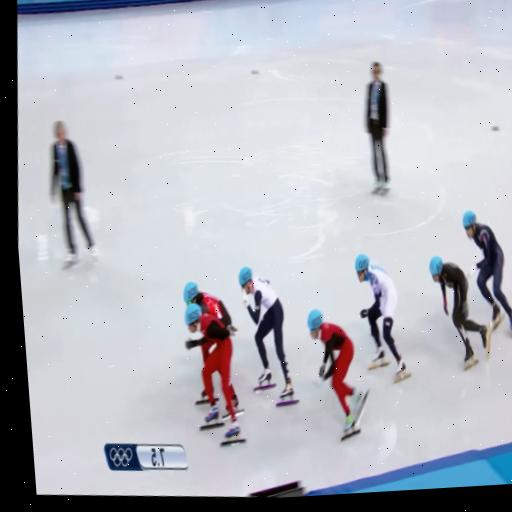Skater: (184, 304, 243, 445), (238, 268, 296, 405), (306, 310, 367, 440), (355, 255, 409, 382), (428, 256, 488, 370), (462, 211, 511, 333), (182, 282, 236, 335)
